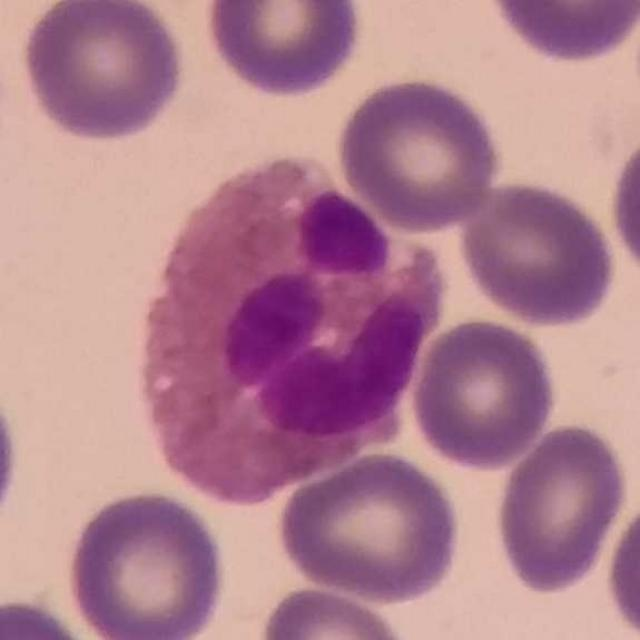Eosinophil: (134, 152, 448, 510)
RBC: (273, 448, 466, 606), (334, 72, 504, 234), (64, 486, 230, 639), (454, 176, 620, 328), (16, 0, 189, 145), (491, 419, 632, 596), (406, 314, 560, 472), (200, 0, 368, 100), (482, 0, 640, 67), (254, 583, 417, 640), (602, 483, 640, 640), (605, 118, 640, 287), (0, 593, 104, 640), (0, 363, 26, 550)
